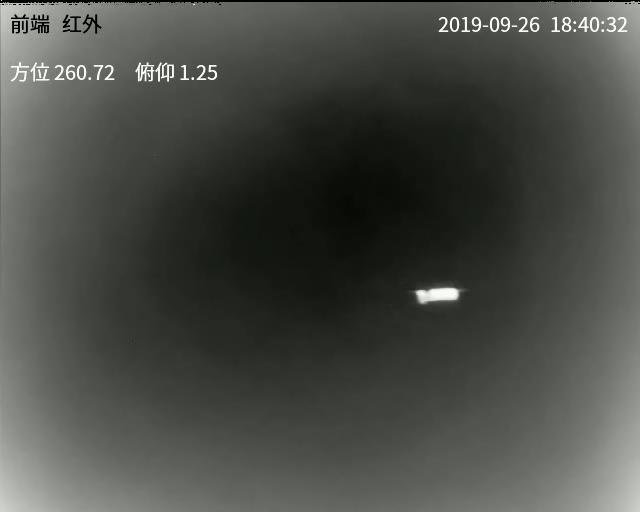uav: (407, 282, 467, 304)
